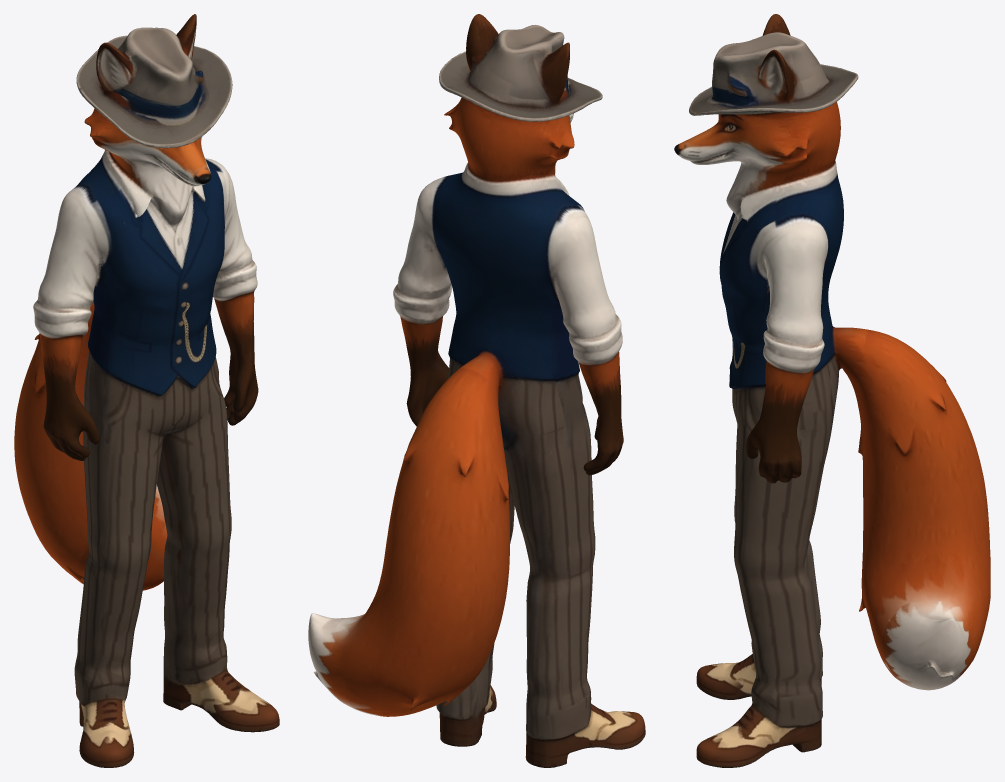
The model's file is zeca_detailed.glb.
The picture shows the model from 3 angles, left to right: view 1: azimuth 30°, elevation 25°; view 2: azimuth 150°, elevation 25°; view 3: azimuth 270°, elevation 25°; orthographic projection. The views are drawn at different scales.
Visible parts, largest first — view 1: mesh_node; view 2: mesh_node; view 3: mesh_node.
Boxes of the visible parts, x1,y1,x2,y2 form: mesh_node: (14, 14, 279, 767); mesh_node: (308, 14, 645, 767); mesh_node: (674, 14, 990, 767).
Bounding box in the file's own units: 0.6322 × 1.9 × 0.7867.
Materials: 1 (1 with a texture image).
